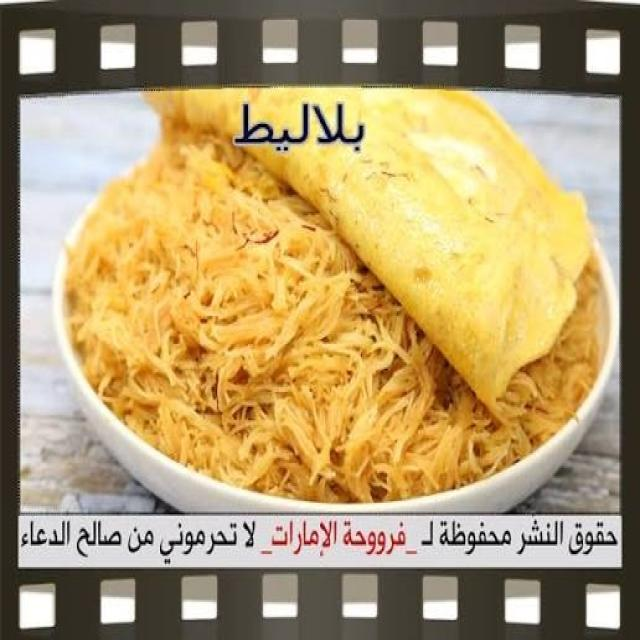Balaleet: (48, 98, 606, 504)
